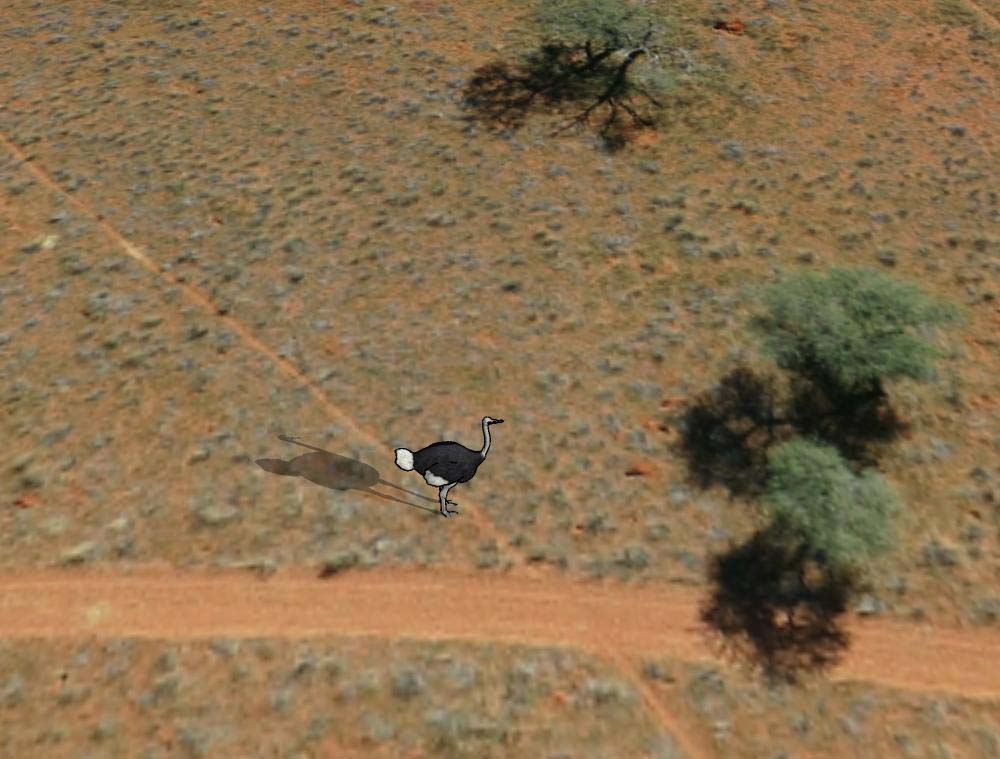ostrich: (394, 411, 508, 516)
